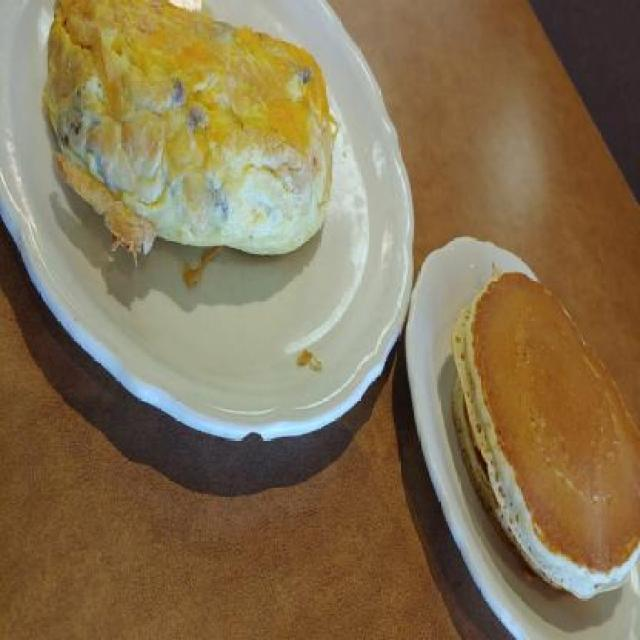pancakes: (441, 248, 640, 617)
